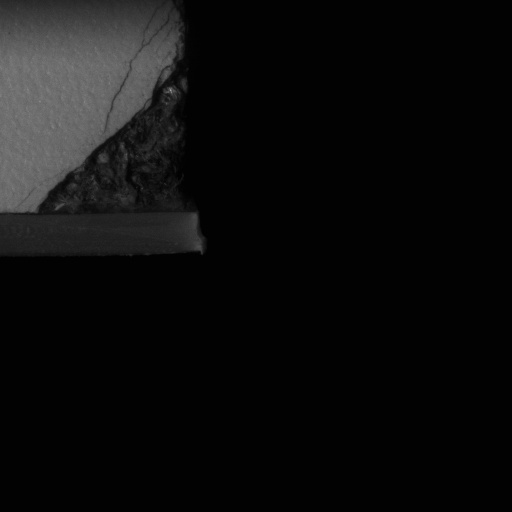bengque: (30, 63, 194, 221)
